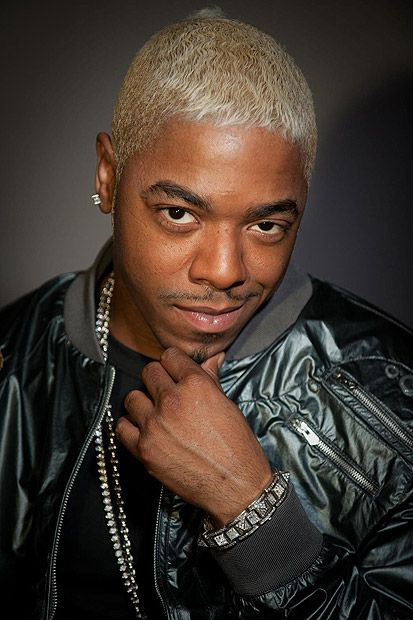bad: (118, 180, 304, 366)
